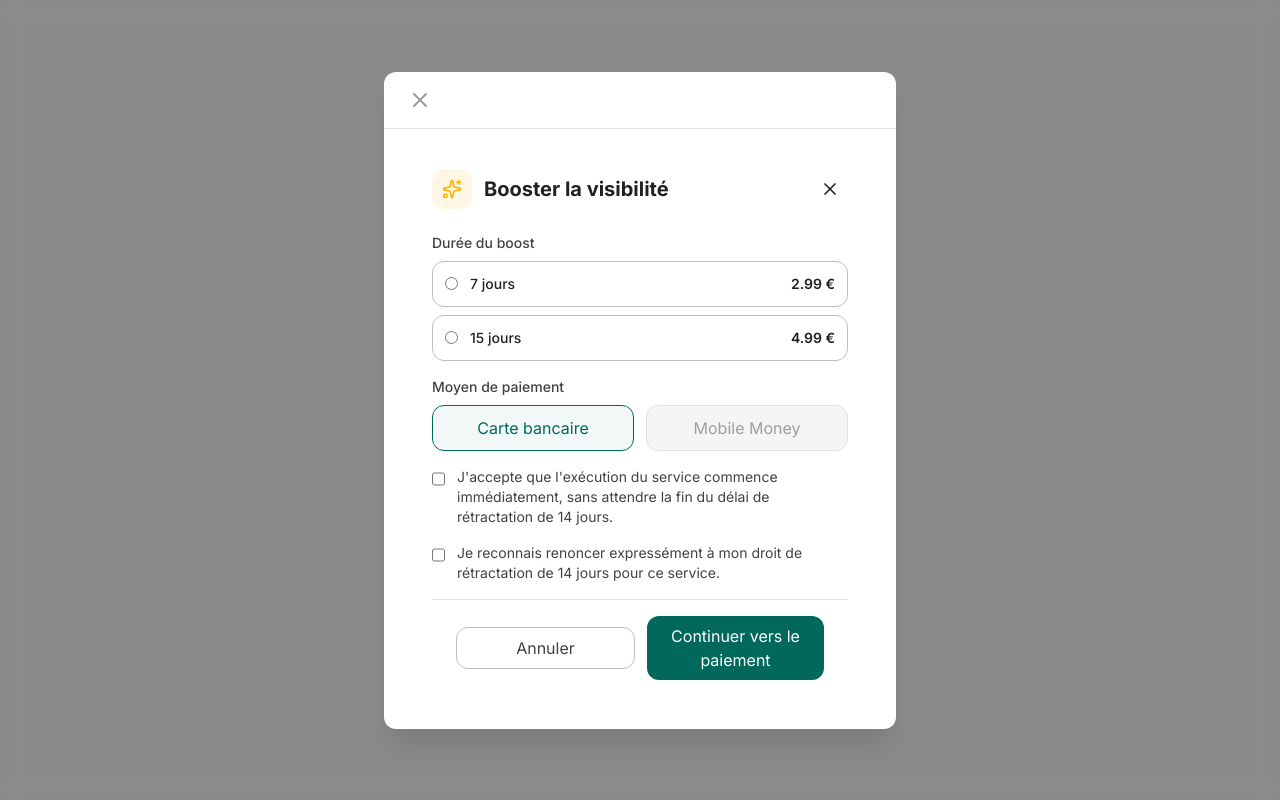
Scenario: BoostModal - double consentement (art. L.221-28 13° Code conso) › bloque la soumission tant qu'aucune offre ni aucune case n'est cochee
Step 1. Click the button "Continuer vers le paiement" → [736, 648], box [647, 616, 824, 680]
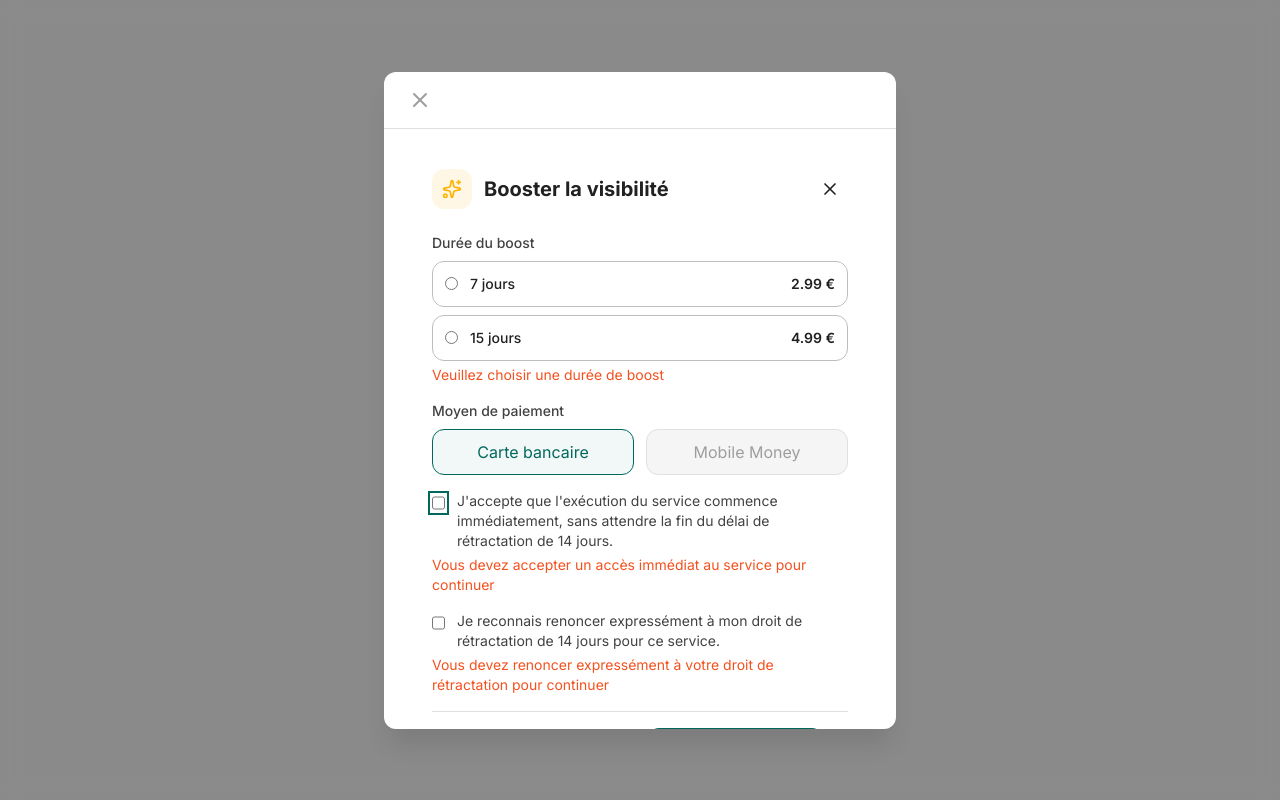
Expected: the text "Vous devez accepter un accès immédiat" is shown, [432, 556, 806, 592]
Expected: the text "Vous devez renoncer expressément" is shown, [432, 656, 774, 692]
